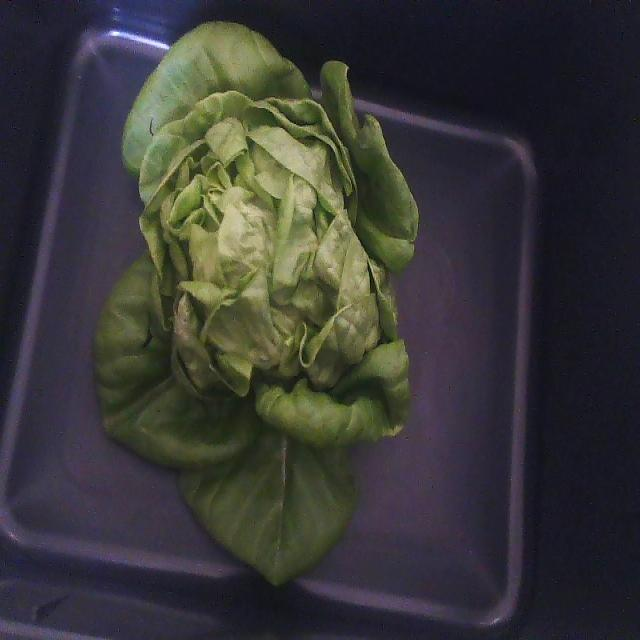lettuce: (95, 23, 418, 584)
